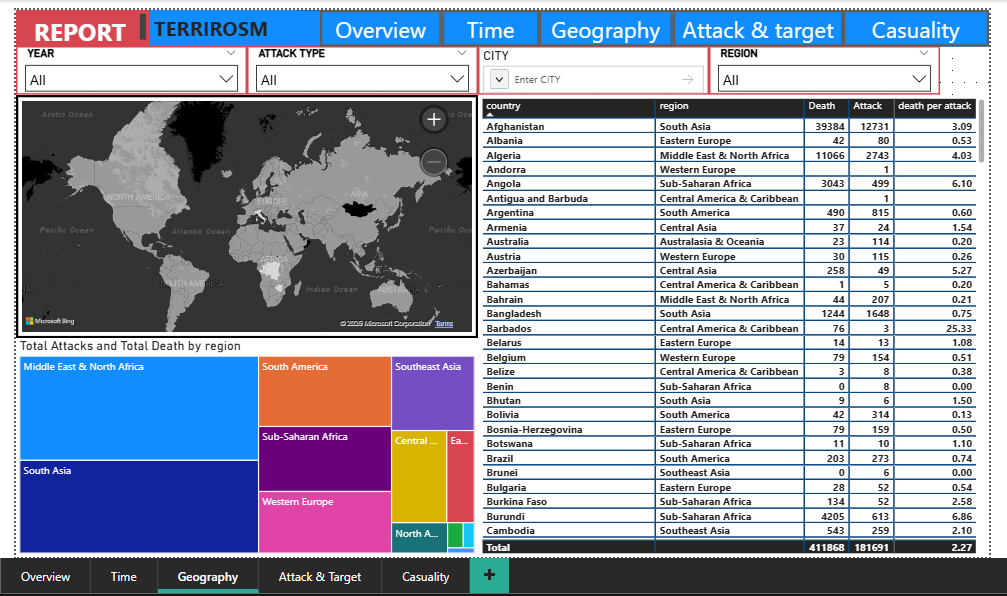

The page's visual inventory and layout, read from the dashboard file:
{"tool":"powerbi","page":{"name":"Geography","canvas":[1280,720],"ordinal":2},"visuals":[{"type":"shape","box":[0,0,1280,48],"z":0},{"type":"textbox","box":[0,0,176,48],"z":1000},{"type":"filledMap","title":"Attacks Over Time(Year-1970 to 2020)","fields":{"Category":["terror.country_txt"]},"box":[0,112,608,320],"z":2000},{"type":"textbox","box":[176,0,192,48],"z":3000},{"type":"treemap","title":"Total Attacks and Total  Death by region","fields":{"Group":["terror.region_txt"],"Values":["CountNonNull(terror.eventid)"]},"box":[0,432,608,288],"z":4000},{"type":"tableEx","fields":{"Values":["terror.country_txt","terror.region_txt","Sum(terror.nkill)","CountNonNull(terror.eventid)","terror.Average death per attack"]},"box":[608,112,672,608],"z":5000},{"type":"slicer","fields":{"Values":["terror.year"]},"box":[0,48,304,64],"z":6000},{"type":"slicer","fields":{"Values":["terror.attacktype1_txt"]},"box":[304,48,304,64],"z":7000},{"type":"textSlicer","fields":{"Values":["terror.city"]},"box":[608,48,304,64],"z":8000},{"type":"slicer","fields":{"Values":["terror.region_txt"]},"box":[912,48,304,64],"z":9000},{"type":"actionButton","box":[400,0,160,48],"z":10000},{"type":"actionButton","box":[560,0,128,48],"z":11000},{"type":"actionButton","box":[688,0,176,48],"z":12000},{"type":"actionButton","box":[864,0,224,48],"z":13000},{"type":"actionButton","box":[1088,0,192,48],"z":14000}]}

Visuals, with their boxes in screenshot pixels (x1, y1, x2, y2):
shape: (x1=16, y1=10, x2=974, y2=46)
textbox: (x1=16, y1=10, x2=147, y2=46)
"Attacks Over Time(Year-1970 to 2020)" filledMap: (x1=16, y1=94, x2=471, y2=334)
textbox: (x1=147, y1=10, x2=291, y2=46)
"Total Attacks and Total  Death by region" treemap: (x1=16, y1=334, x2=471, y2=549)
tableEx - terror.country_txt x terror.region_txt: (x1=471, y1=94, x2=974, y2=549)
slicer - terror.year: (x1=16, y1=46, x2=243, y2=94)
slicer - terror.attacktype1_txt: (x1=243, y1=46, x2=471, y2=94)
textSlicer - terror.city: (x1=471, y1=46, x2=698, y2=94)
slicer - terror.region_txt: (x1=698, y1=46, x2=926, y2=94)
actionButton: (x1=315, y1=10, x2=435, y2=46)
actionButton: (x1=435, y1=10, x2=531, y2=46)
actionButton: (x1=531, y1=10, x2=662, y2=46)
actionButton: (x1=662, y1=10, x2=830, y2=46)
actionButton: (x1=830, y1=10, x2=974, y2=46)
